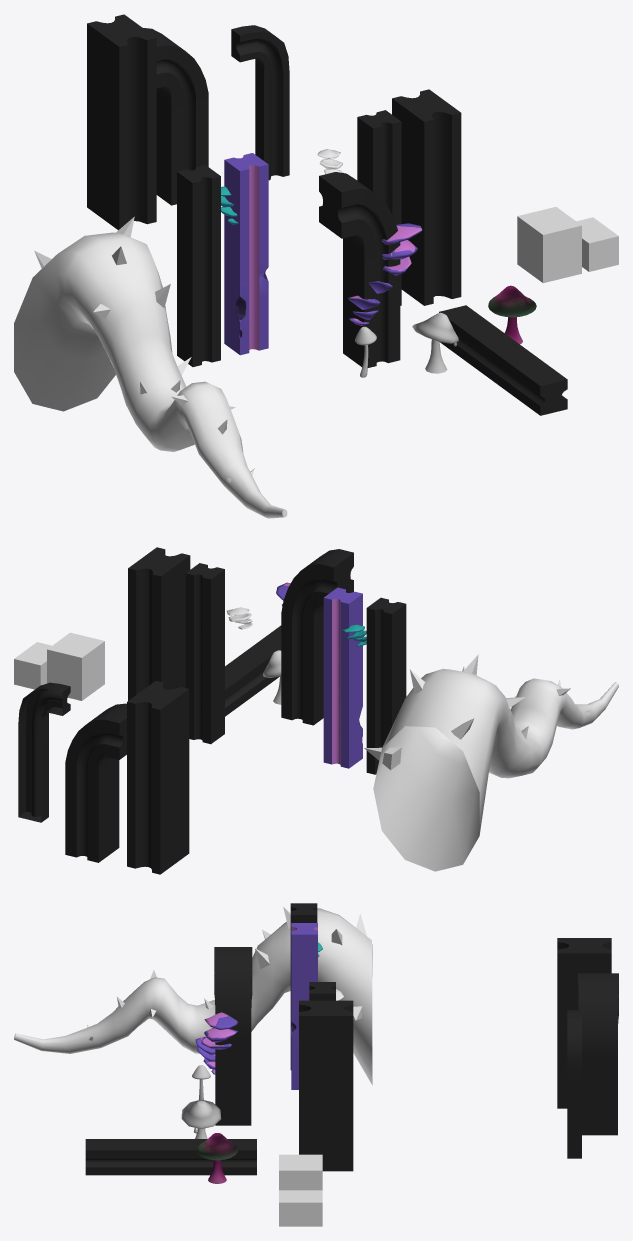
3 views of the same model, one above another, from view 1: azimuth 30°, elevation 25°; view 2: azimuth 150°, elevation 25°; view 3: azimuth 270°, elevation 25° (orthographic). The views are drawn at different scales.
Visible parts, largest first — view 1: Cylinder018, Box006, Box002, Box004, Box015, Box016, doldu, Box008, Box003, Box001, Box007, Box005 (+2 smaller); view 2: Cylinder018, Box006, Box002, doldu, Box004, Box015, Box007, Box016, Box003, Box001, Box008, Box005 (+1 smaller); view 3: Cylinder018, Box002, Box004, doldu, Box008, Box006, Box015, Box003, Box001, Box005, Object001, Object002 (+2 smaller).
Boxes of the visible parts, x1,y1,x2,y2 form: Cylinder018: (14, 216, 287, 518); Box006: (87, 14, 156, 230); Box002: (392, 89, 461, 305); Box004: (319, 172, 422, 367); Box015: (221, 153, 268, 355); Box016: (177, 165, 220, 366); doldu: (143, 28, 208, 205); Box008: (439, 305, 567, 415); Box003: (231, 25, 289, 180); Box001: (517, 207, 581, 283); Box007: (357, 110, 401, 305); Box005: (576, 217, 618, 271); Cylinder018: (364, 654, 618, 871); Box006: (127, 681, 189, 874); Box002: (128, 547, 190, 700); doldu: (65, 703, 126, 862); Box004: (276, 549, 353, 725); Box015: (323, 587, 366, 768); Box007: (185, 563, 224, 744); Box016: (366, 597, 406, 774); Box003: (18, 682, 70, 822); Box001: (47, 632, 104, 700); Box008: (225, 625, 281, 716); Box005: (14, 642, 51, 689); Cylinder018: (14, 907, 372, 1085); Box002: (299, 1000, 353, 1171); Box004: (195, 947, 252, 1125); doldu: (578, 973, 618, 1135); Box008: (85, 1139, 256, 1175); Box006: (557, 938, 611, 1108); Box015: (291, 923, 322, 1089); Box003: (567, 1010, 581, 1158); Box001: (279, 1154, 322, 1190); Box005: (279, 1190, 322, 1226); Object001: (197, 1133, 237, 1183); Object002: (181, 1099, 221, 1138).
Bounding box in the file's own units: 2386 × 1013 × 2697.
